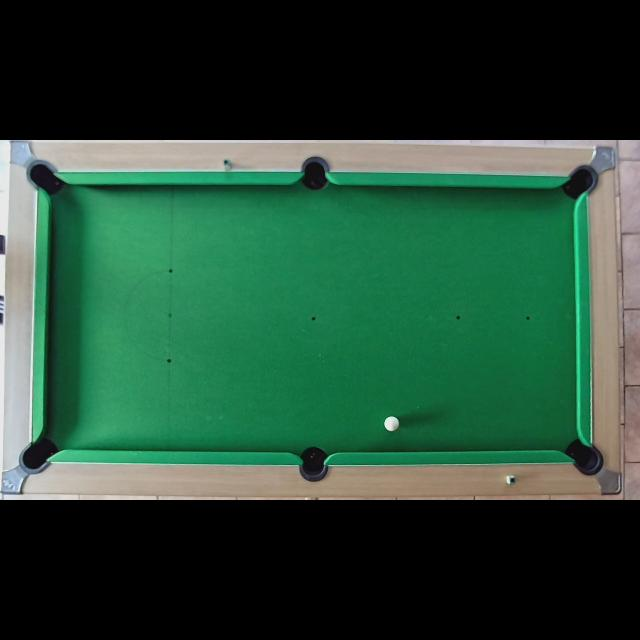Ball: (384, 416, 400, 432)
